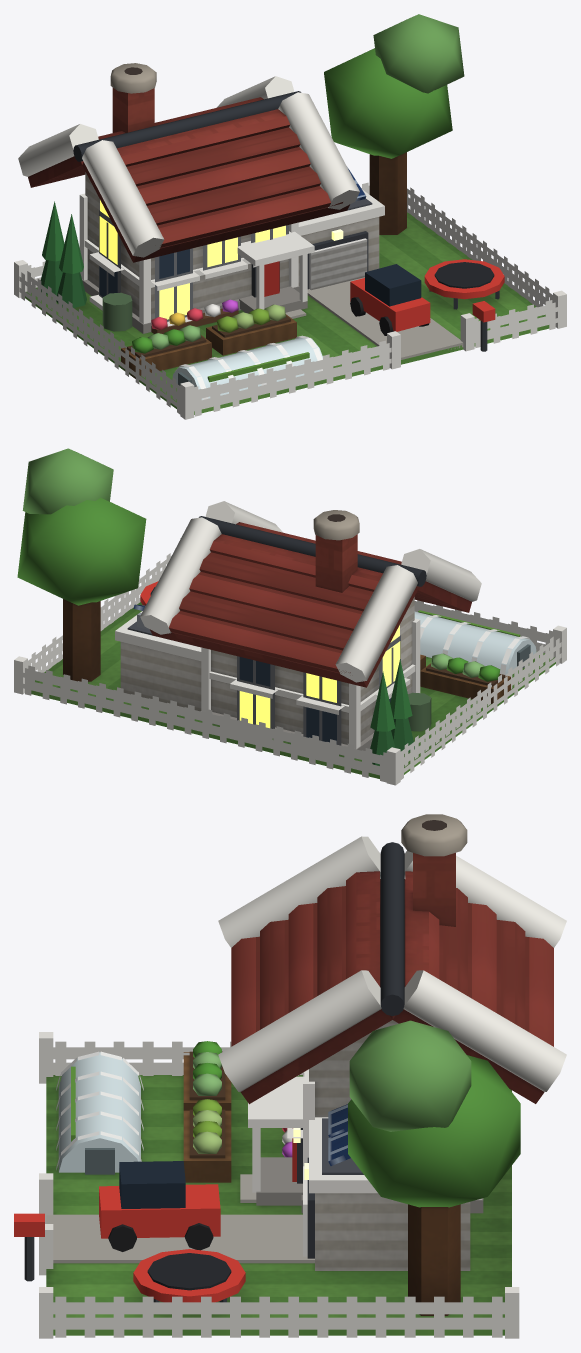
File: homestead_modern_red.glb
3 views of the same model, one above another, from view 1: azimuth 30°, elevation 25°; view 2: azimuth 150°, elevation 25°; view 3: azimuth 270°, elevation 25° (orthographic). The views are drawn at different scales.
Visible parts, largest first — view 1: homestead_modern_red; view 2: homestead_modern_red; view 3: homestead_modern_red.
Boxes of the visible parts, x1,y1,x2,y2 form: homestead_modern_red: [14, 14, 566, 419]; homestead_modern_red: [14, 448, 566, 785]; homestead_modern_red: [14, 814, 566, 1338].
Bounding box in the file's own units: 0.5497 × 0.2894 × 0.463.
3 materials, 1 textured.
